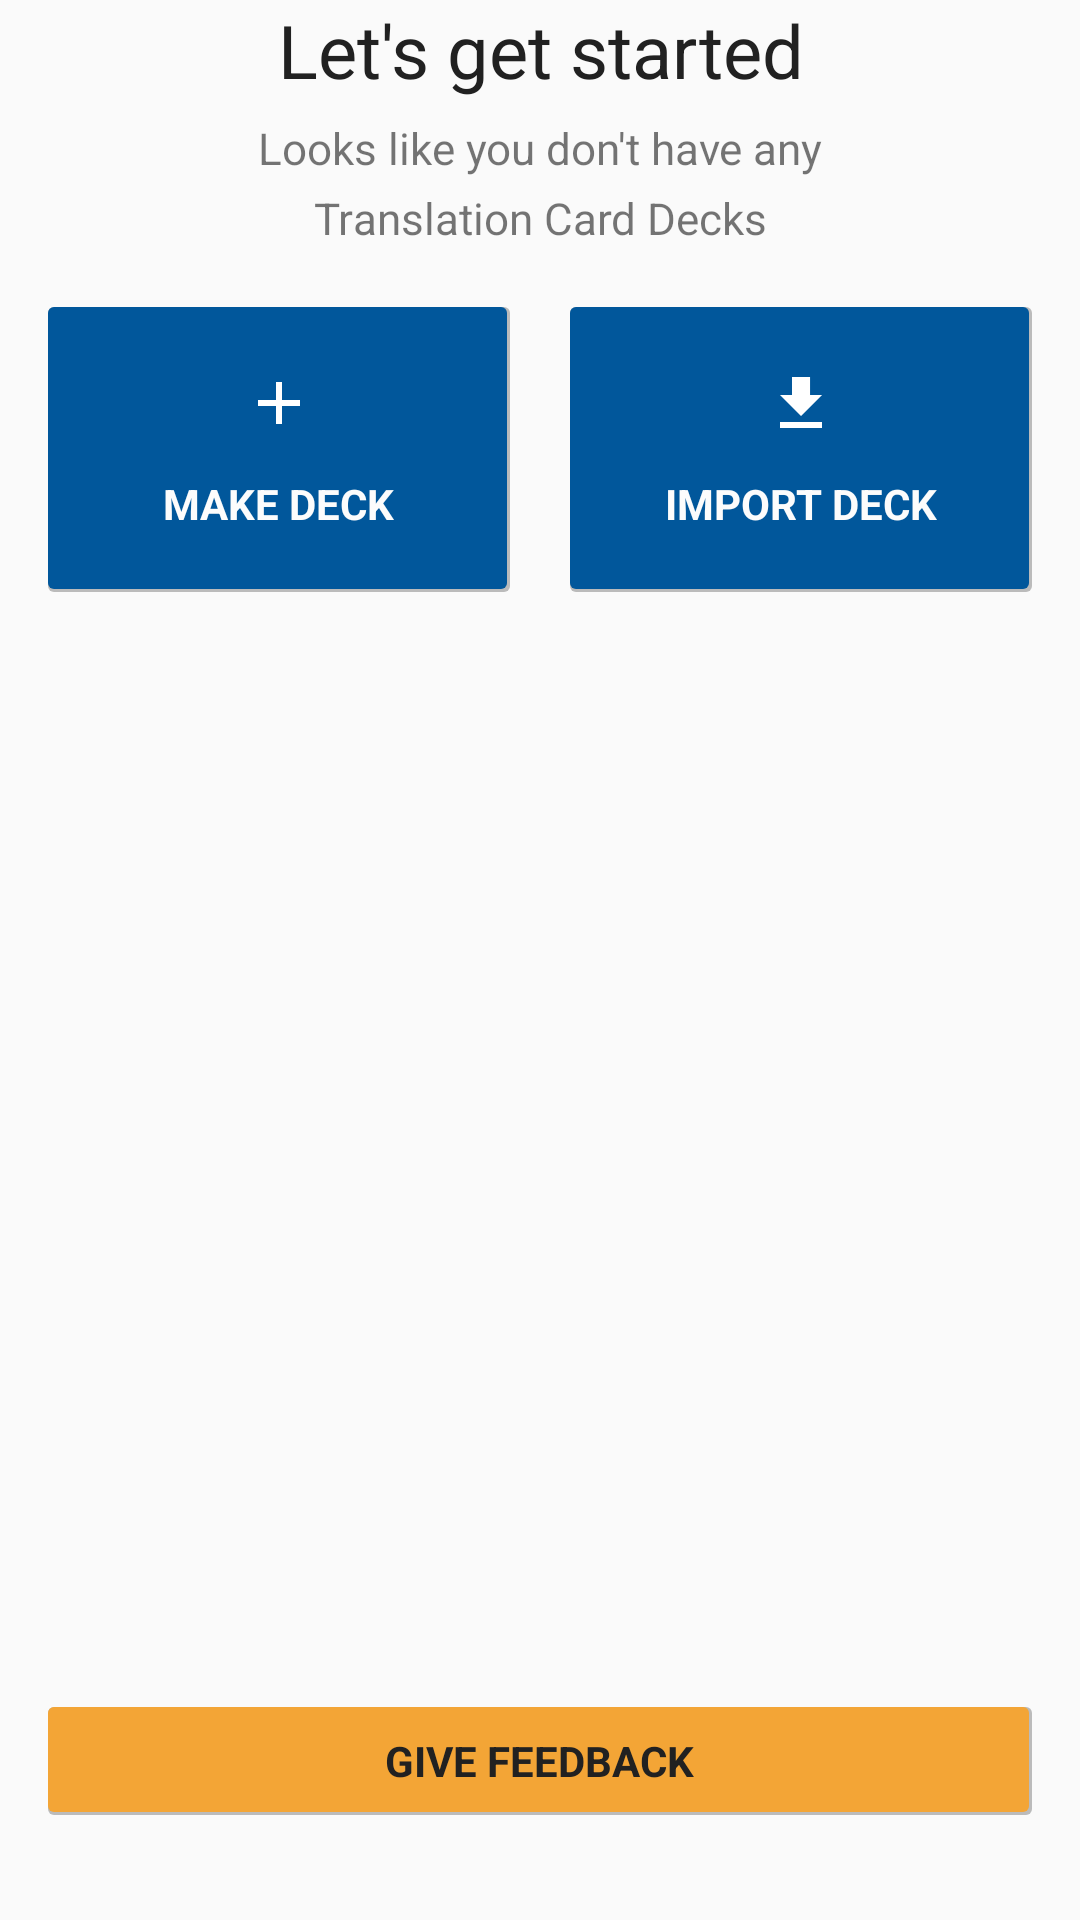

Named icons in this screenshot (1080 x 1920) and their bounding boxes, bbox=(x1, y1, x2, y2):
add: bbox=(258, 382, 300, 424)
